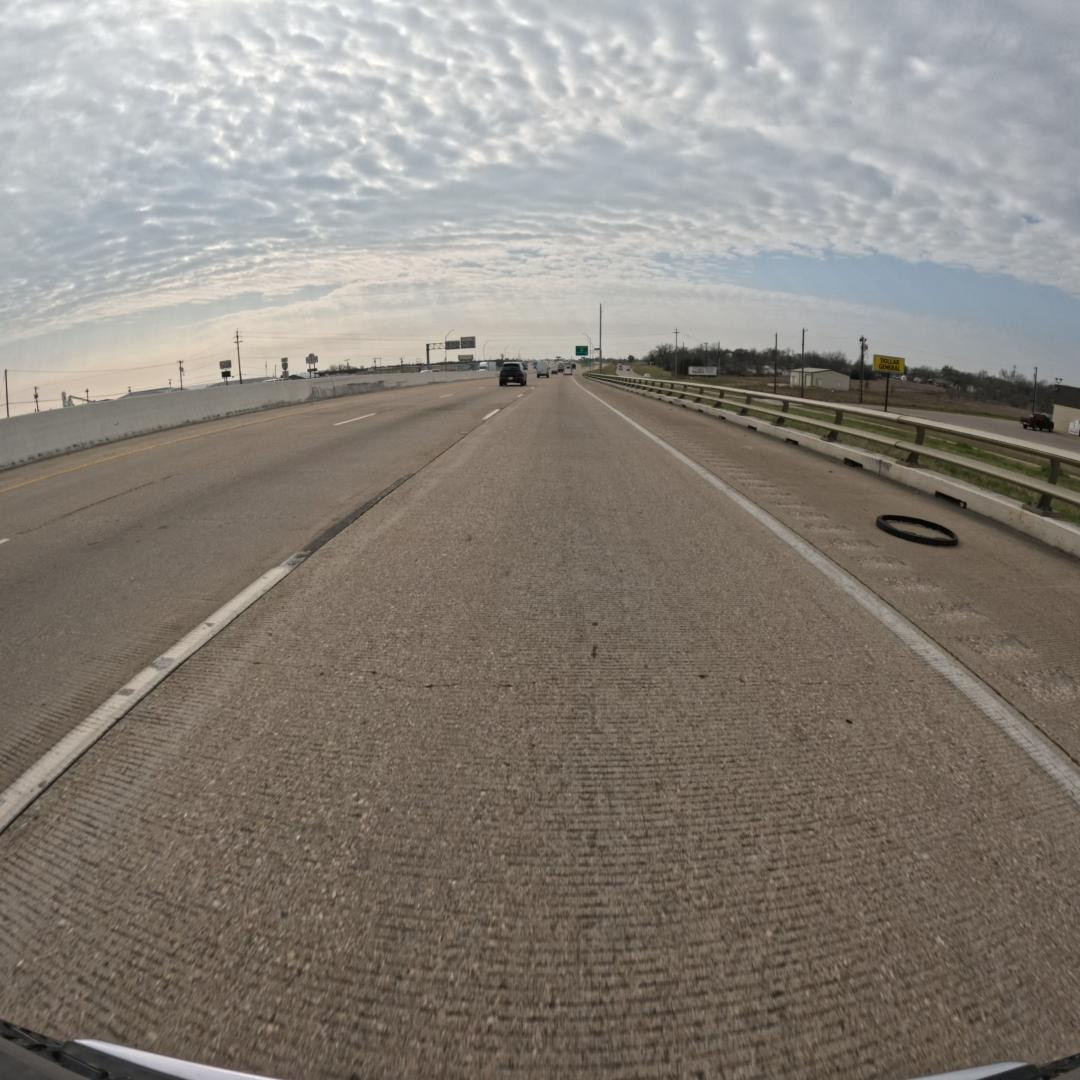lane0: (0, 381, 1080, 1076)
lane1: (0, 385, 517, 829)
